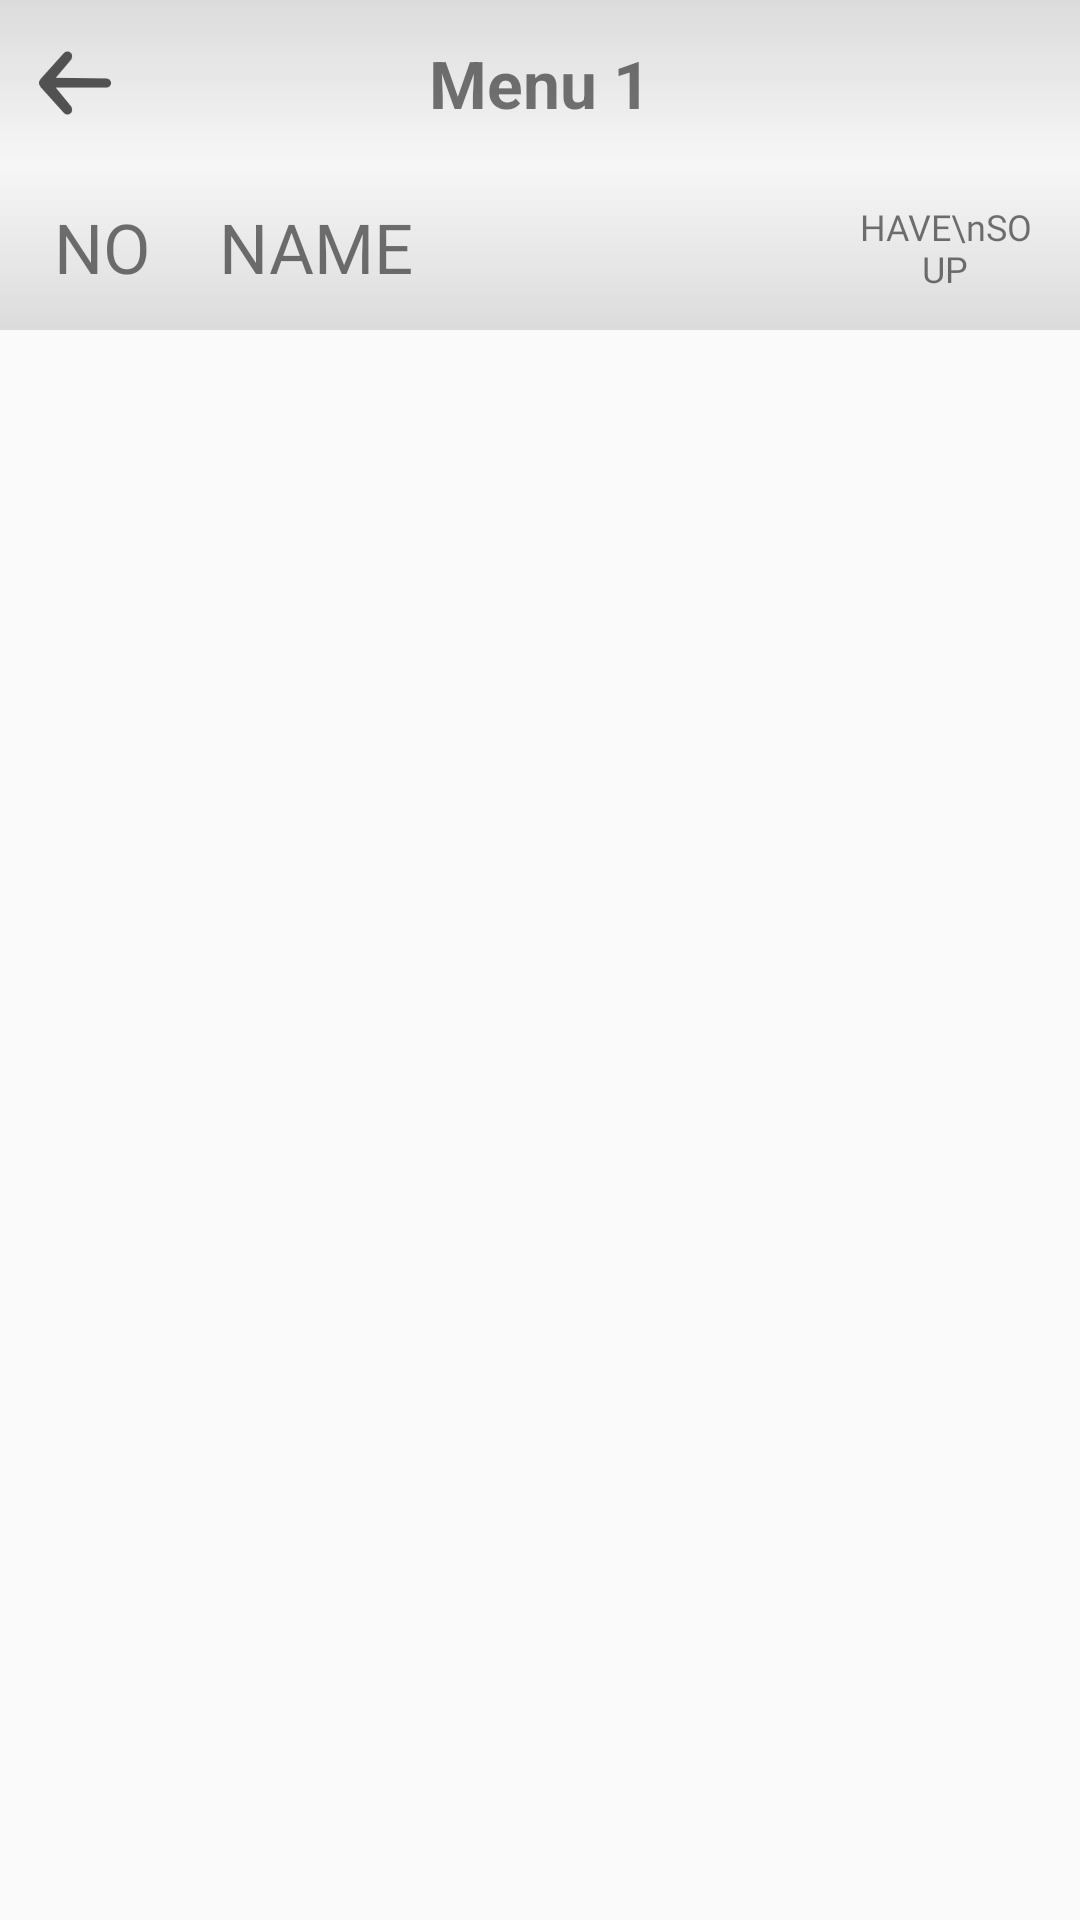

Icon bounding boxes for this 1080 × 1920 phone screenshot, format rect(x1, y1, x2, y2):
back: rect(39, 51, 111, 115)
